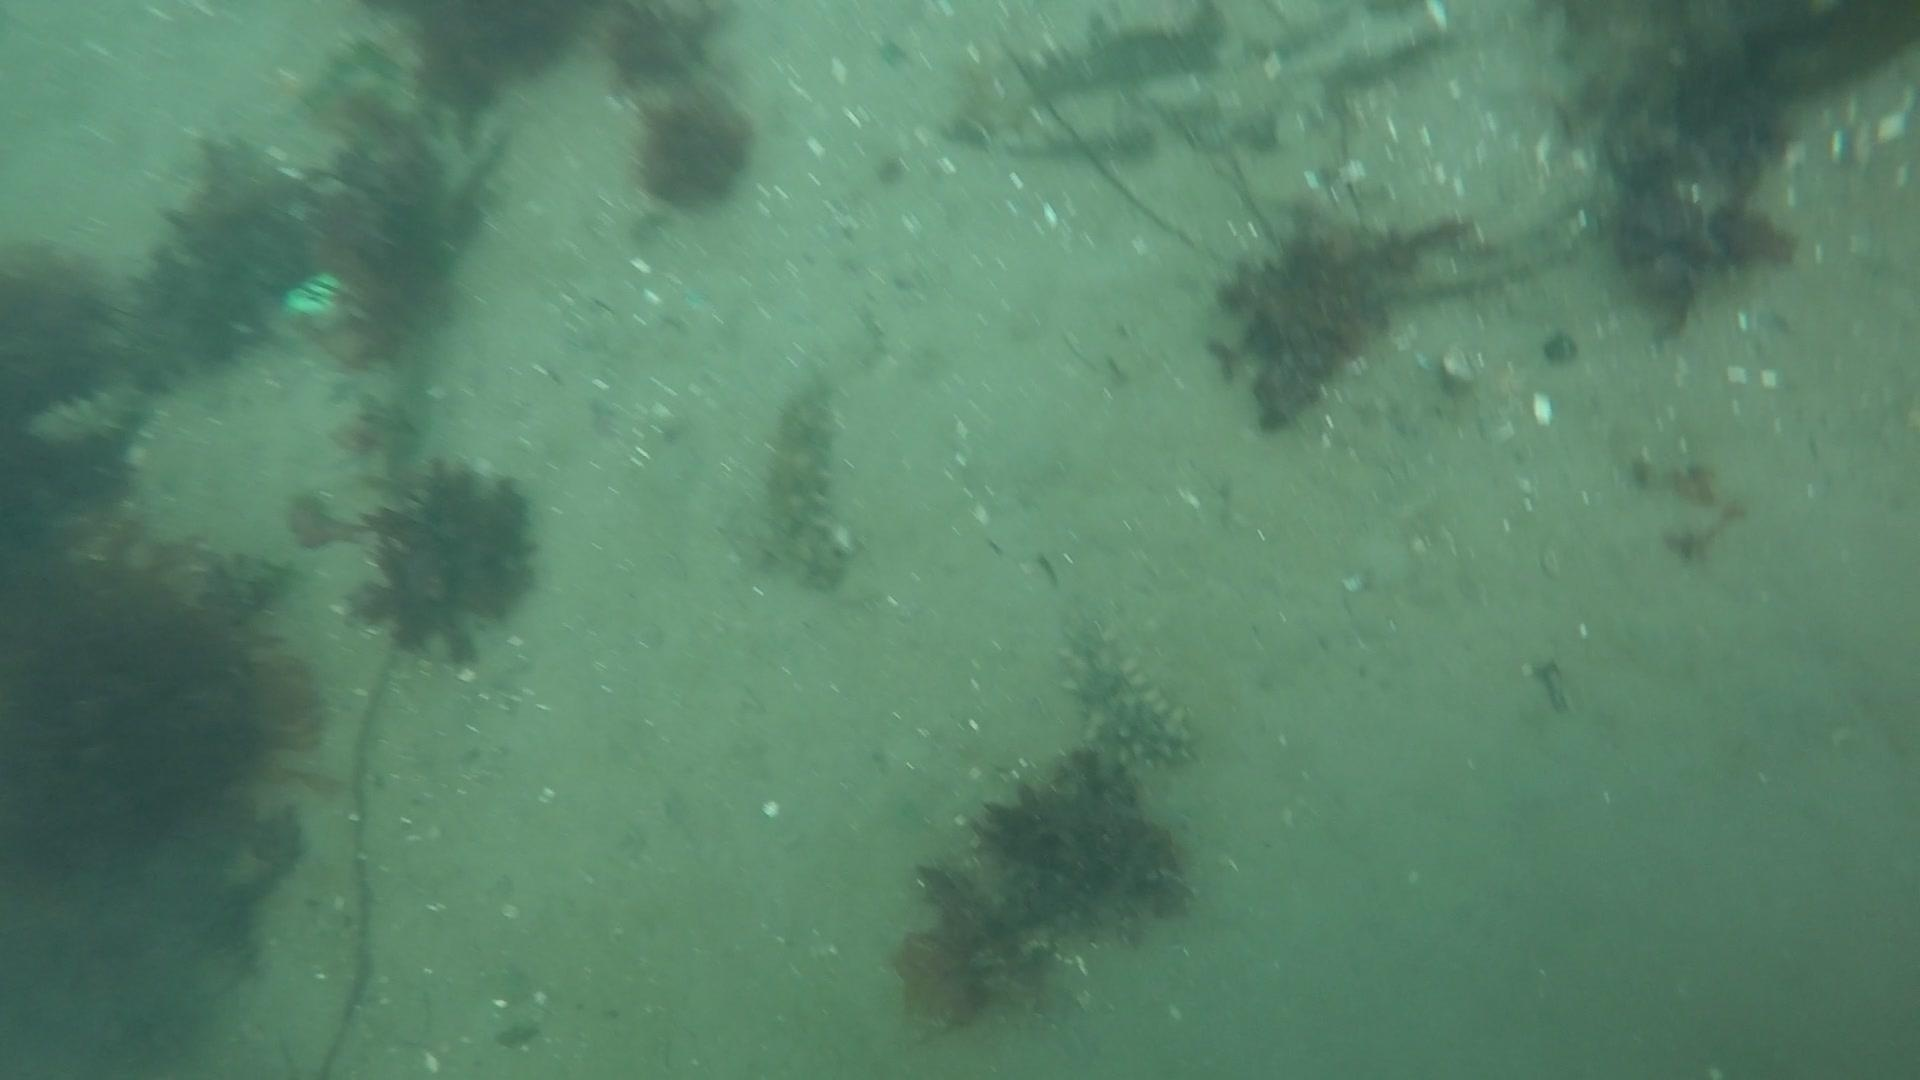holothurian: (757, 372, 862, 593), (1055, 616, 1199, 778), (22, 378, 157, 458)
